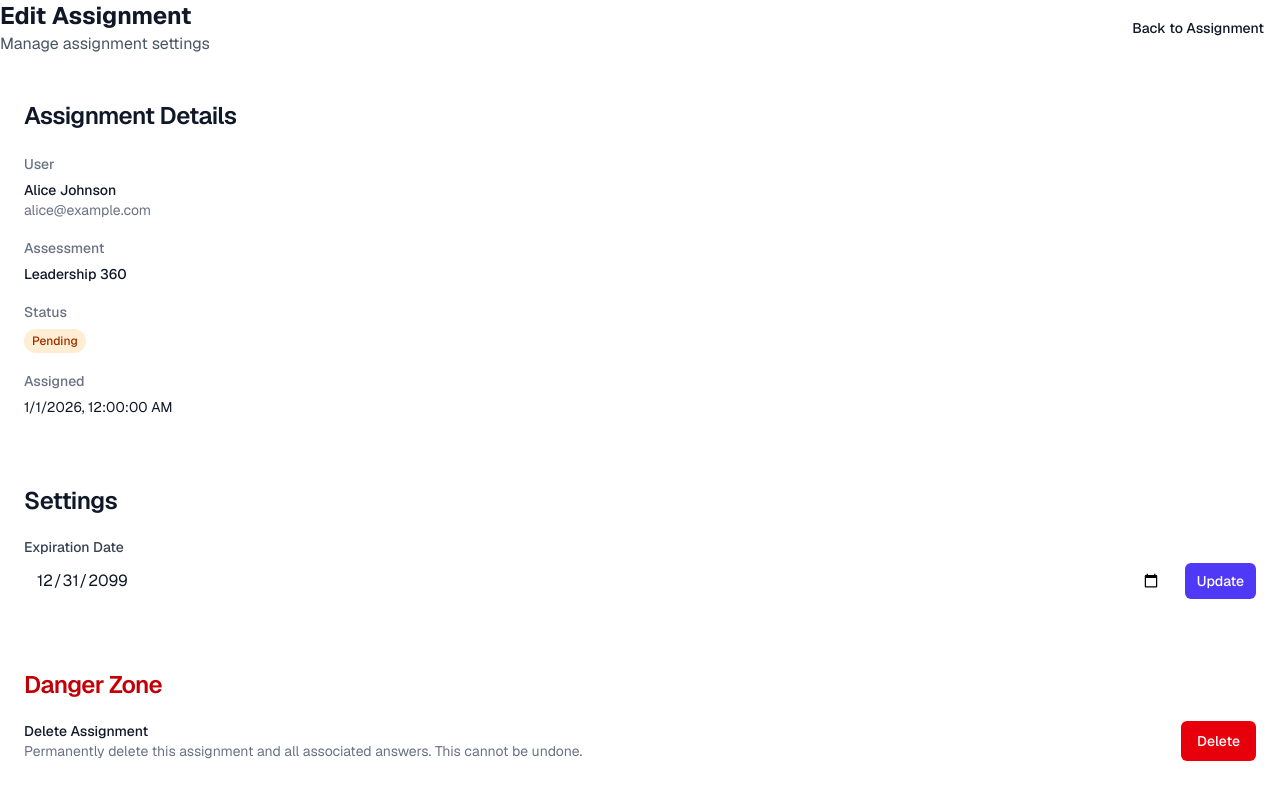
Test case: EditAssignmentClient › shows delete confirmation dialog when delete button is clicked
The width and height of the screenshot is (1280, 800).
Click the button "Delete": x=1218, y=741 [1181,721,1256,761]
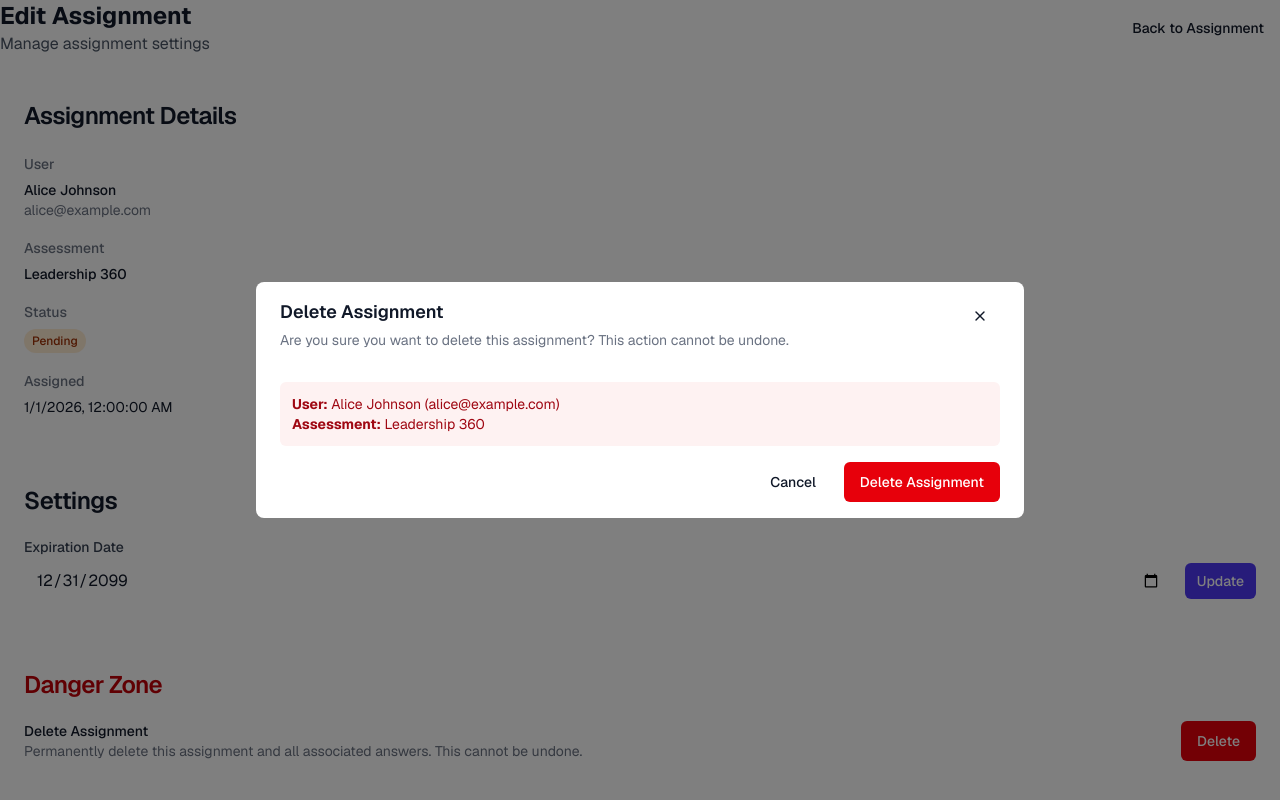
Check: the text "Are you sure you want to delete this assignment? This action cannot be undone." is shown, box [280,330,789,350]
